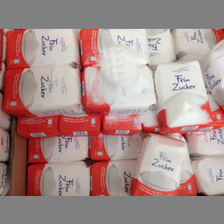tomato_sauce: (156, 60, 213, 137), (1, 65, 84, 115), (126, 134, 187, 196), (82, 66, 157, 116), (4, 30, 80, 66), (79, 30, 150, 67), (23, 164, 91, 195), (91, 161, 135, 195)
